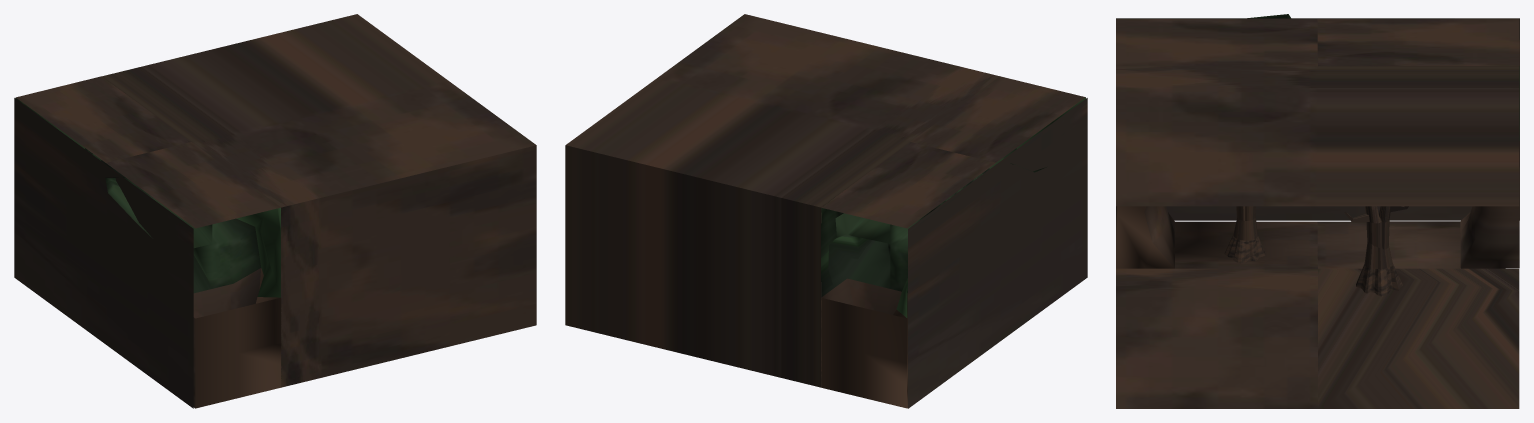
File: forest3.glb
3 renders of one model, left to right at view 1: azimuth 30°, elevation 25°; view 2: azimuth 150°, elevation 25°; view 3: azimuth 270°, elevation 25°, orthographic. The views are drawn at different scales.
Parts seen in each view (by area): view 1: Cube.004, Cube.003, Cube, Cube.005, Cube.001; view 2: Cube.004, Cube.003, Cube.005, Cube, Cube.002; view 3: Cube.004, Cube.005, Cube, Cube.003, Cylinder, Cylinder.001.
Boxes of the visible parts, x1=… form: Cube.004: x1=102, y1=14, x2=536, y2=387; Cube.003: x1=14, y1=98, x2=193, y2=408; Cube: x1=106, y1=142, x2=281, y2=408; Cube.005: x1=16, y1=76, x2=191, y2=162; Cube.001: x1=105, y1=177, x2=280, y2=297; Cube.004: x1=565, y1=14, x2=999, y2=387; Cube.003: x1=908, y1=98, x2=1087, y2=408; Cube.005: x1=821, y1=142, x2=995, y2=408; Cube: x1=910, y1=76, x2=1085, y2=162; Cube.002: x1=821, y1=204, x2=940, y2=317; Cube.004: x1=1116, y1=66, x2=1519, y2=408; Cube.005: x1=1317, y1=18, x2=1519, y2=268; Cube: x1=1116, y1=19, x2=1317, y2=268; Cube.003: x1=1116, y1=18, x2=1519, y2=220; Cylinder: x1=1344, y1=206, x2=1408, y2=296; Cylinder.001: x1=1224, y1=206, x2=1265, y2=263.
Size of the model in its own units: 4.15 by 2 by 3.61.
Materials: 10 (10 with a texture image).
